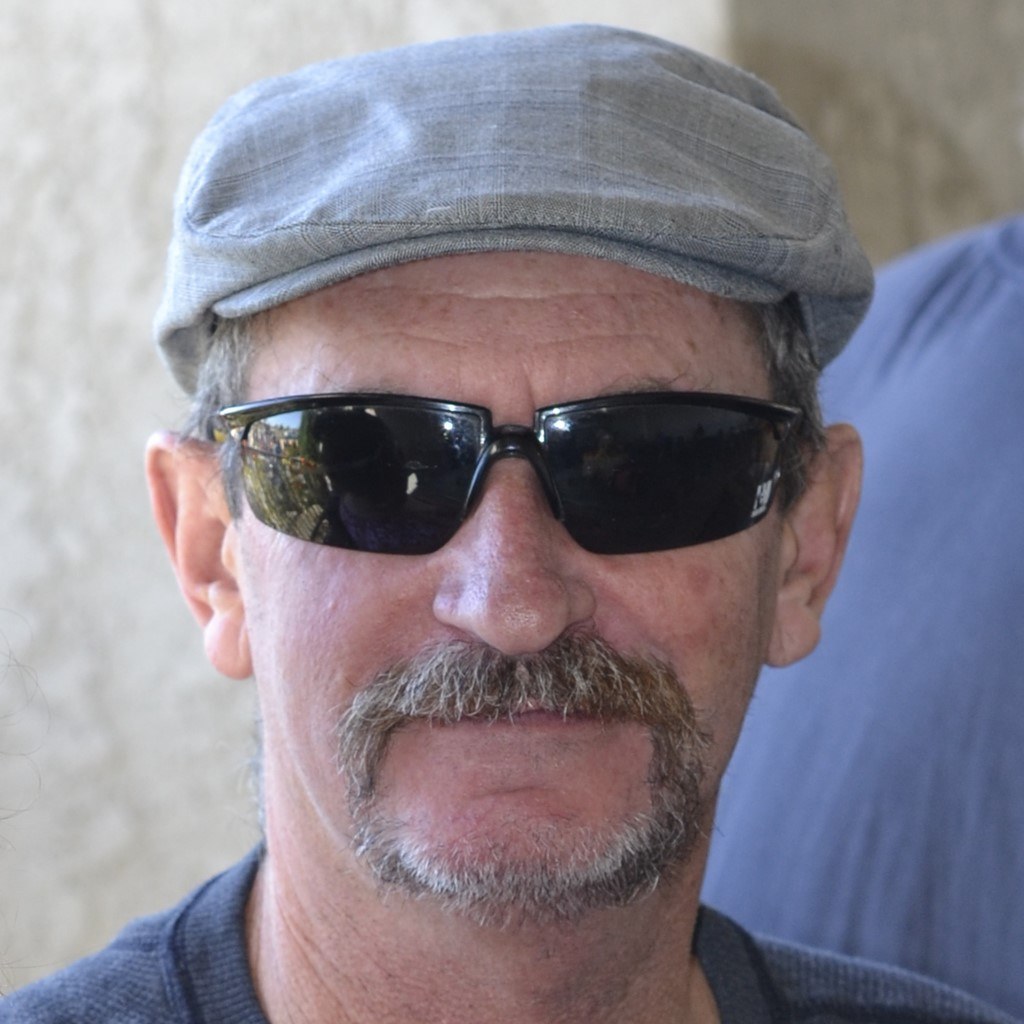sin_mascara: (190, 152, 808, 944)
